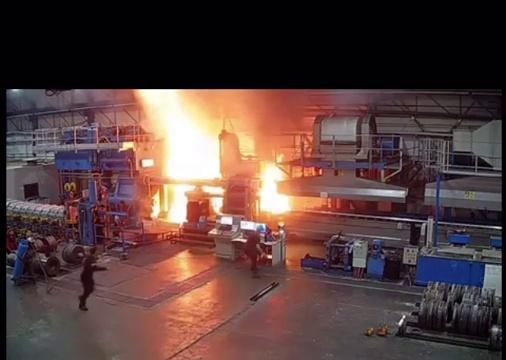fire: (90, 90, 323, 267)
